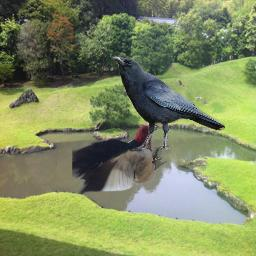Crow: (111, 56, 225, 152)
Woodpecker: (72, 121, 167, 194)
